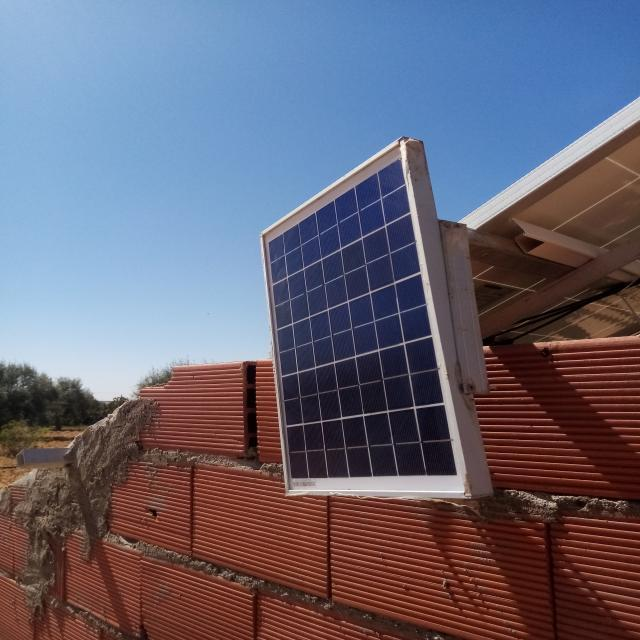Normal Solar Panel: (261, 139, 468, 496)
